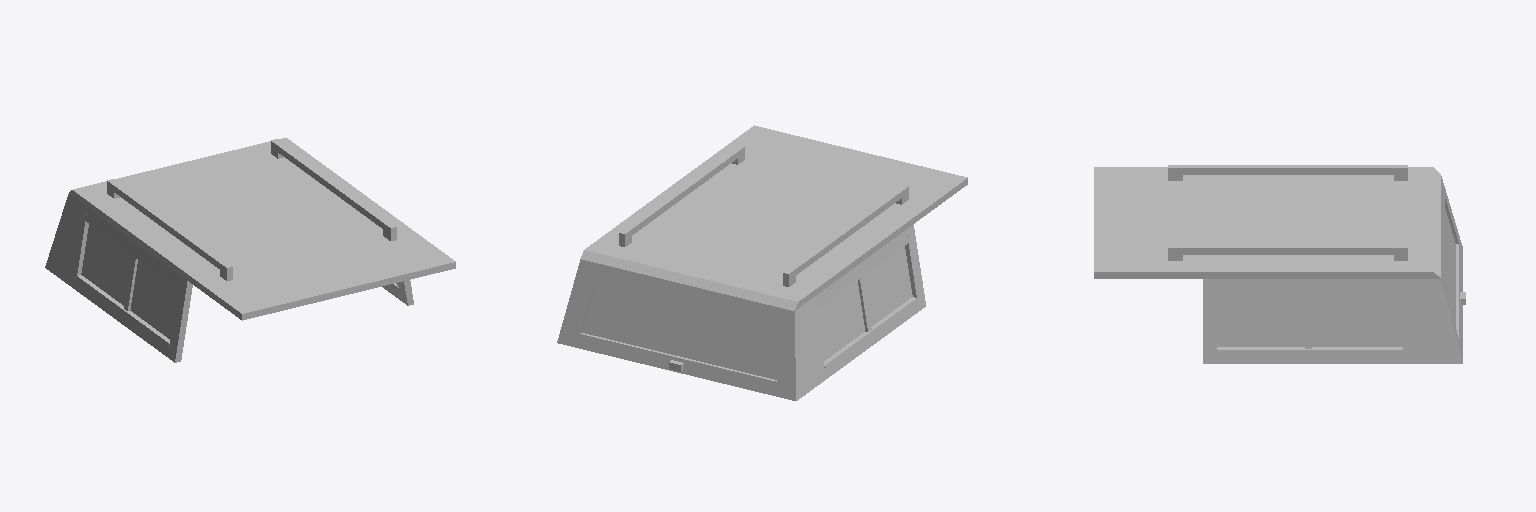
File: scouthardtop.obj
The picture shows the model from 3 angles: view 1: azimuth 30°, elevation 25°; view 2: azimuth 150°, elevation 25°; view 3: azimuth 270°, elevation 25°; orthographic projection.
Parts seen in each view (by area): view 1: cube, Wlndows; view 2: cube, $assdoor_wlndow, $assdoortop, Wlndows; view 3: cube, Wlndows, $assdoortop, $assdoor_wlndow.
Boxes of the visible parts, <box> form: cube: <box>45,138,455,362</box>; Wlndows: <box>81,224,397,338</box>; cube: <box>557,125,967,400</box>; $assdoor_wlndow: <box>581,278,776,379</box>; $assdoortop: <box>570,262,783,397</box>; Wlndows: <box>816,246,912,360</box>; cube: <box>1094,165,1462,363</box>; Wlndows: <box>1217,293,1402,346</box>; $assdoortop: <box>1441,182,1465,356</box>; $assdoor_wlndow: <box>1445,209,1455,325</box>.
Bounding box in the file's own units: 2.02 × 0.7969 × 2.72.